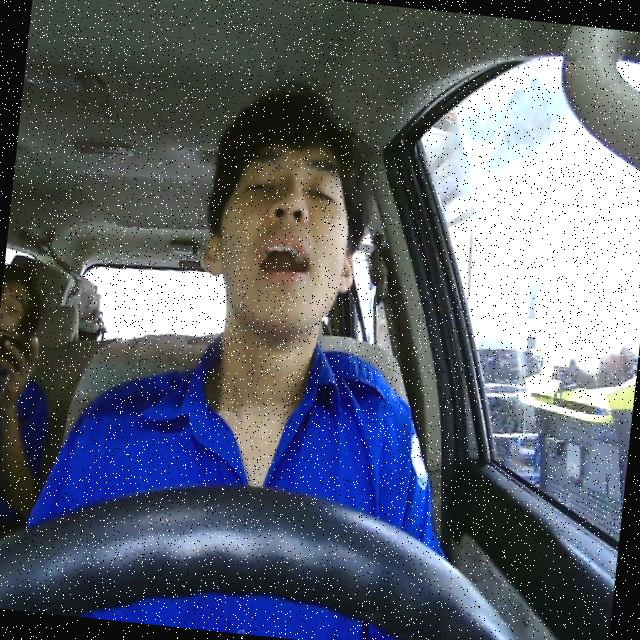yarning: (194, 130, 366, 338)
